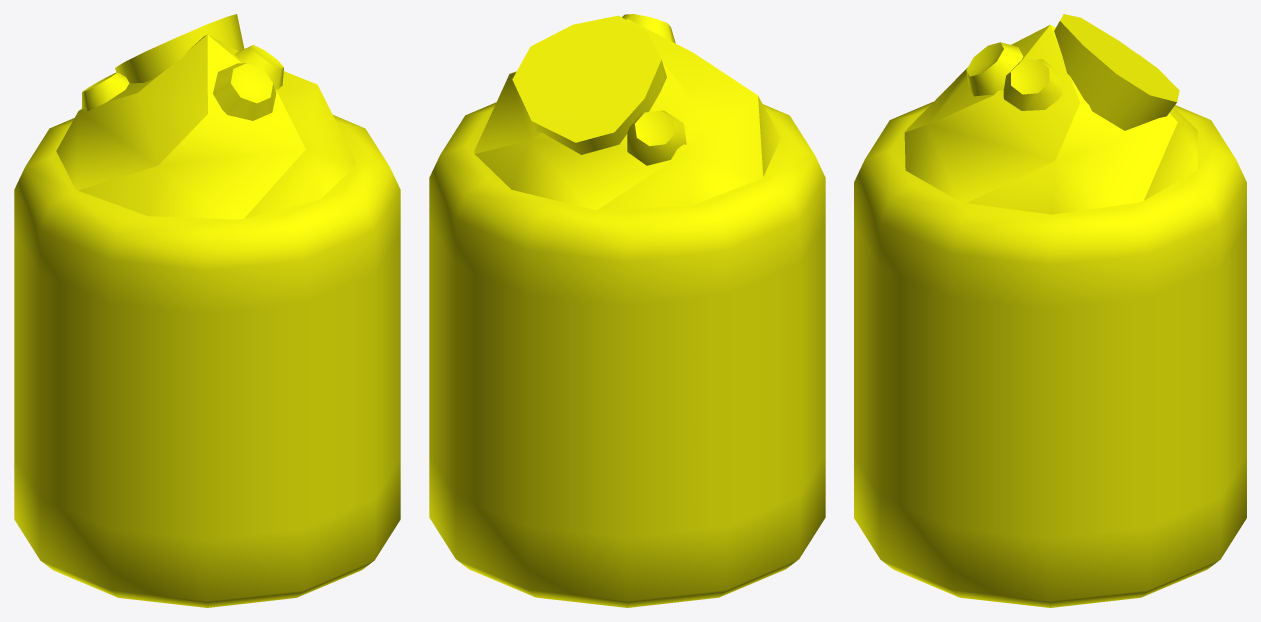
3 views of the same model, side by side, from view 1: azimuth 30°, elevation 25°; view 2: azimuth 150°, elevation 25°; view 3: azimuth 270°, elevation 25° (orthographic). The views are drawn at different scales.
Visible parts, largest first — view 1: m_MiniCake05; view 2: m_MiniCake05; view 3: m_MiniCake05.
Boxes of the visible parts, <box> form: m_MiniCake05: <box>14,14,400,607</box>; m_MiniCake05: <box>429,14,825,607</box>; m_MiniCake05: <box>854,14,1246,607</box>.
Bounding box in the file's own units: 0.1134 × 0.1633 × 0.1134.
1 material, 1 textured.
